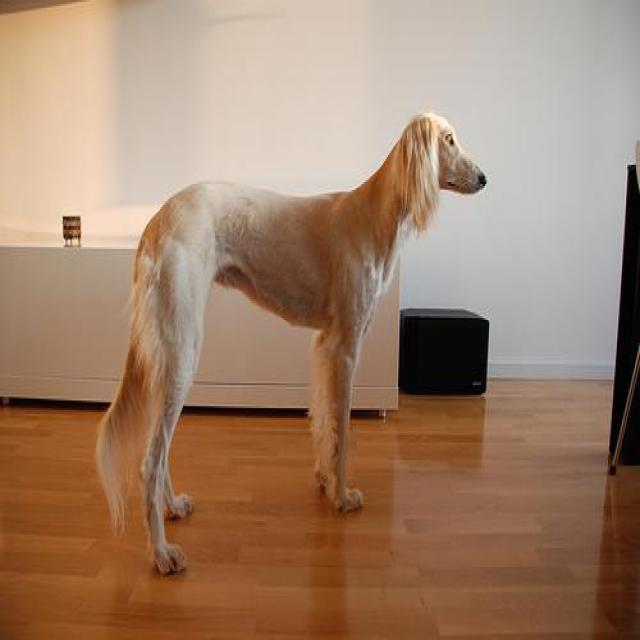saluki: (95, 109, 489, 577)
